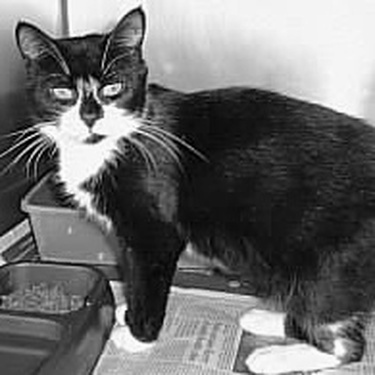cat: (1, 10, 364, 372)
